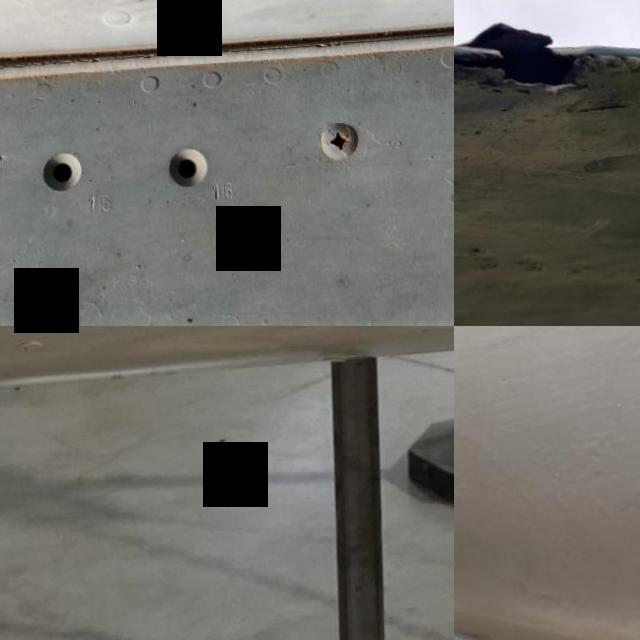Crack: (454, 15, 607, 116)
Missing_Fastener: (143, 124, 232, 228), (16, 134, 107, 225)
